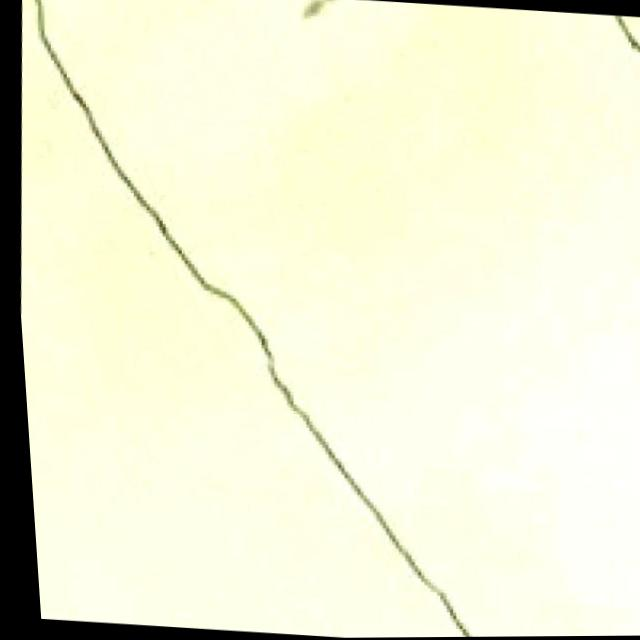Crack: (0, 0, 541, 640), (584, 14, 640, 88)
